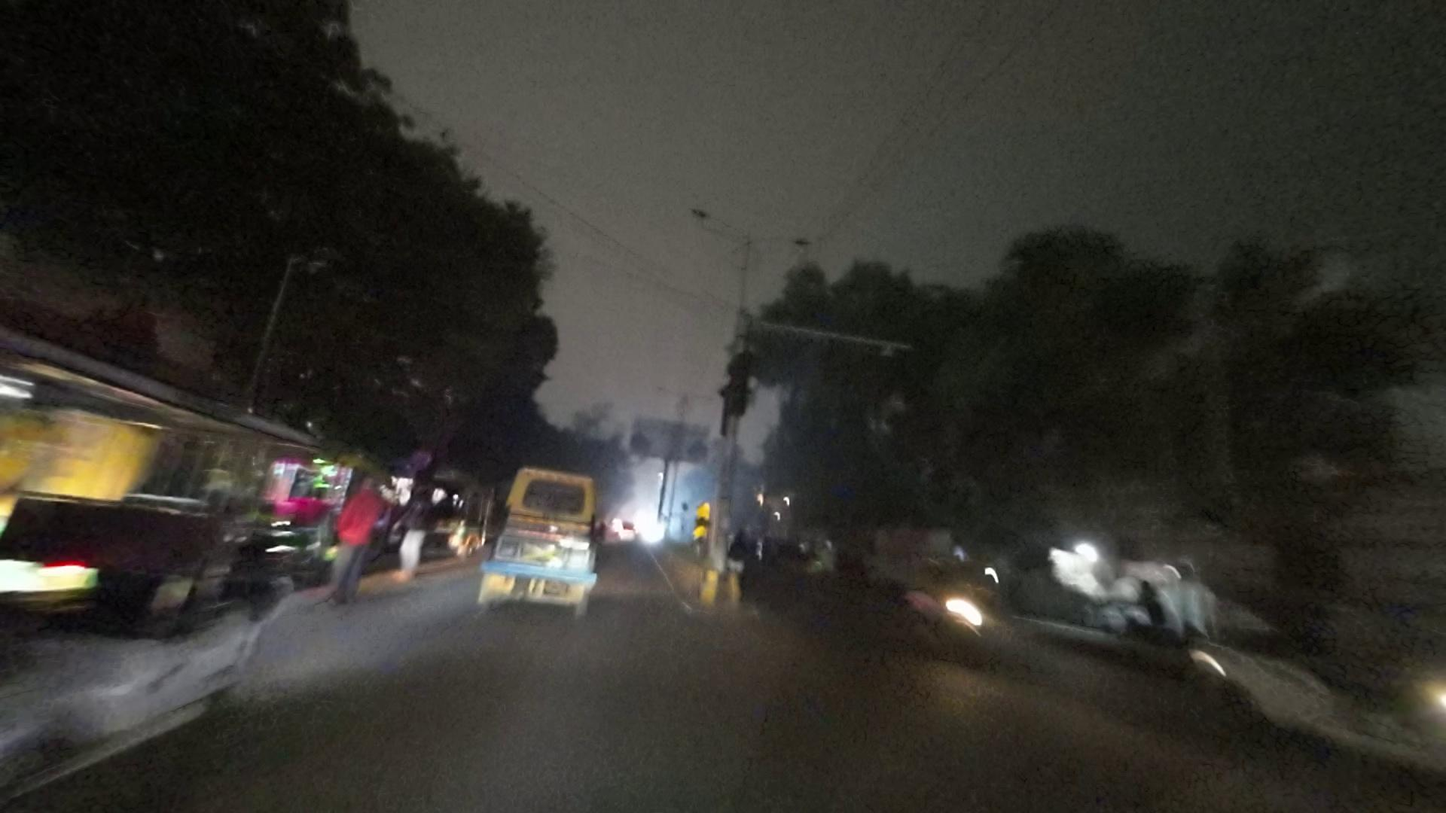streetlight: (690, 206, 747, 236), (749, 233, 812, 252)
